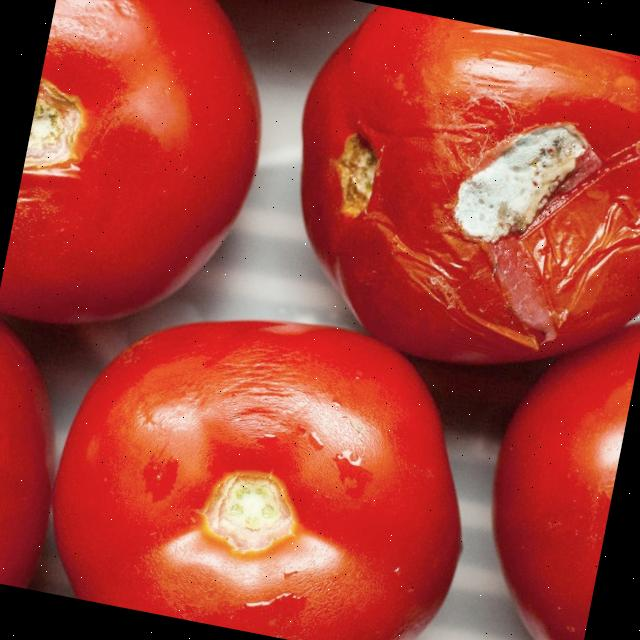tomato: (34, 248, 516, 640), (253, 0, 640, 399), (0, 0, 300, 363), (422, 237, 640, 640)
